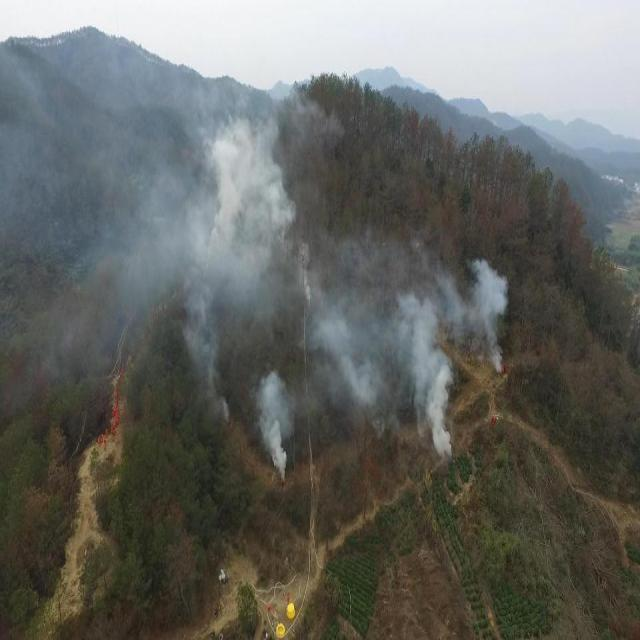Smoke: (139, 81, 334, 424), (300, 249, 405, 472), (380, 233, 514, 378), (399, 289, 456, 477), (249, 367, 299, 489)
